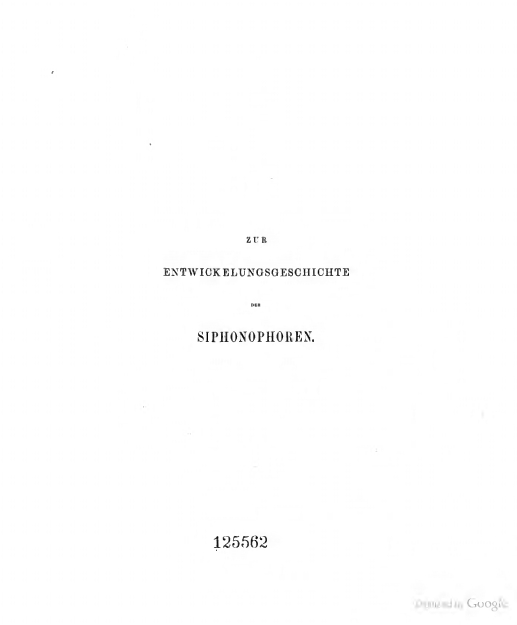NoiseZone: (196, 517, 300, 564), (412, 586, 517, 625)
TitlePageZone: (104, 178, 401, 425)
